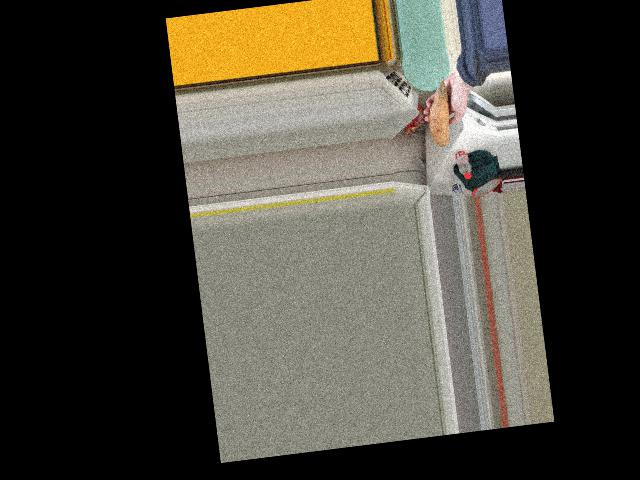sweet_potato: (425, 85, 454, 141)
